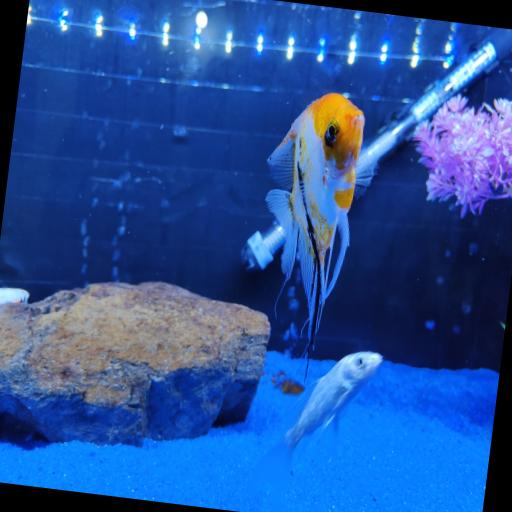Fish: (266, 94, 364, 350), (255, 352, 383, 505), (284, 352, 383, 452)
